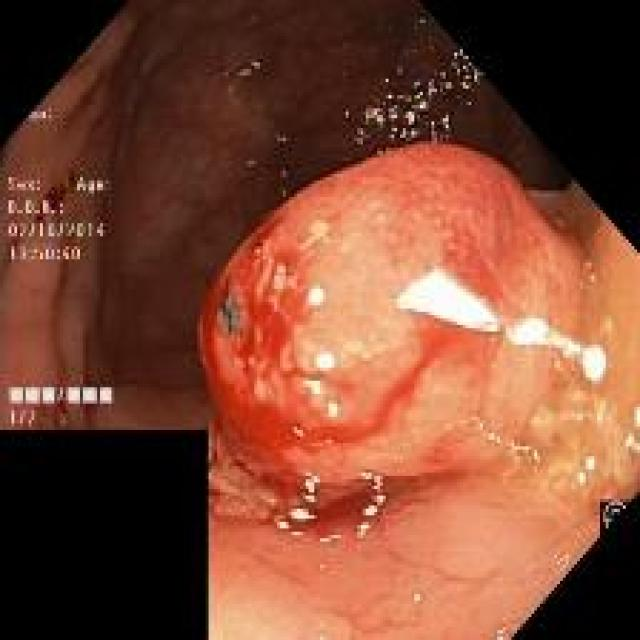Polyps: (199, 144, 619, 519)
